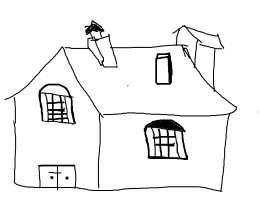chimney: (174, 21, 226, 89), (80, 18, 125, 73), (143, 48, 180, 88)
closed_window: (33, 76, 79, 128), (142, 116, 193, 161)
door: (37, 161, 80, 194)
roof: (2, 43, 242, 120)
wall: (93, 106, 233, 194)
